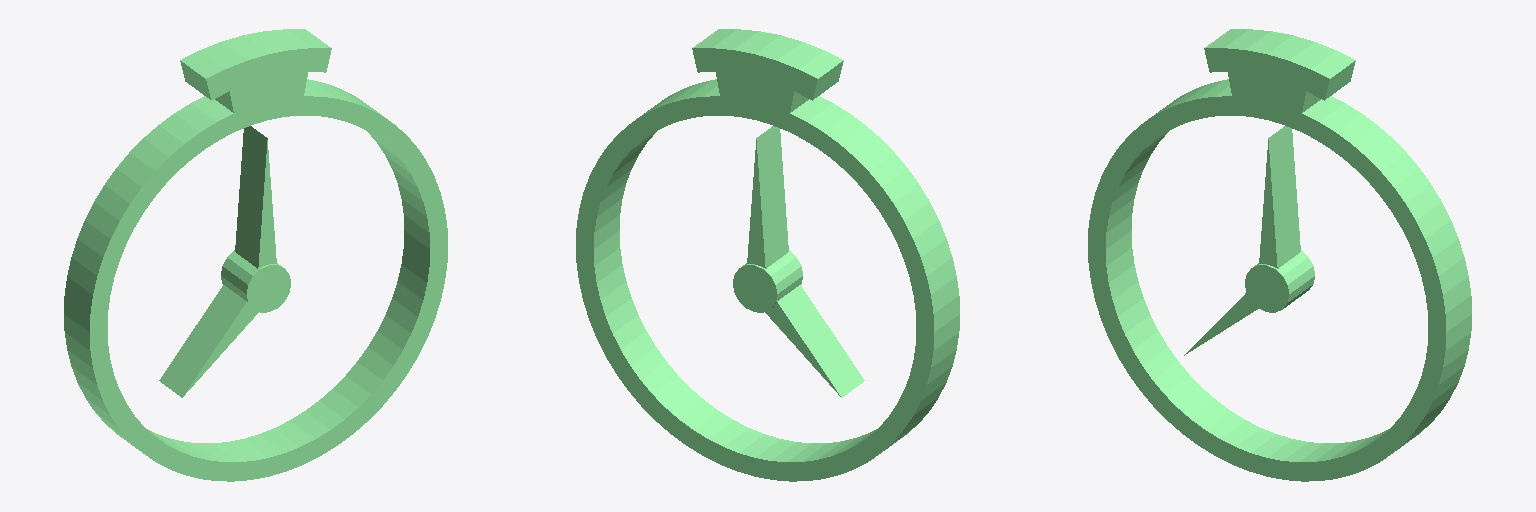
The picture shows the model from 3 angles: view 1: azimuth 30°, elevation 25°; view 2: azimuth 150°, elevation 25°; view 3: azimuth 330°, elevation 25°; orthographic projection.
Visible parts, largest first — view 1: STOPWATCH; view 2: STOPWATCH; view 3: STOPWATCH.
Part boxes in pixels (left/top/right/bottom): STOPWATCH: left=64, top=29, right=447, bottom=481; STOPWATCH: left=576, top=29, right=959, bottom=481; STOPWATCH: left=1088, top=29, right=1471, bottom=481.
Bounding box in the file's own units: 4 × 4.5 × 0.5.
Materials: 1 (1 with a texture image).